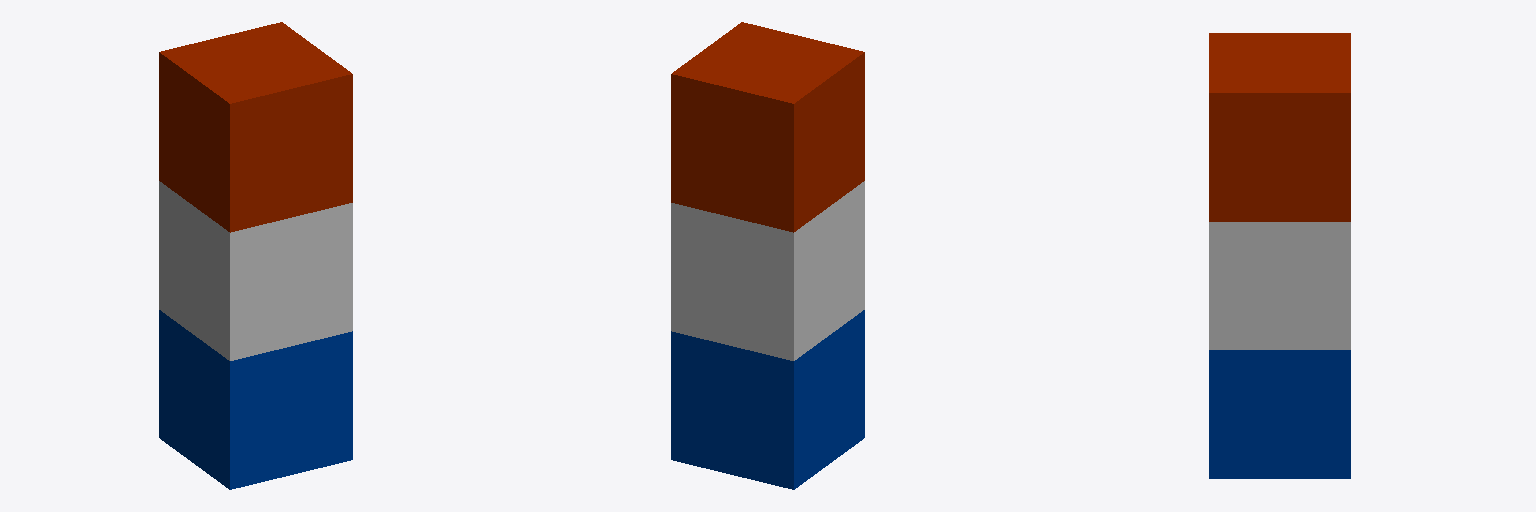
File: boxman.obj
The picture shows the model from 3 angles: view 1: azimuth 30°, elevation 25°; view 2: azimuth 150°, elevation 25°; view 3: azimuth 270°, elevation 25°; orthographic projection.
Visible parts, largest first — view 1: Cube.002, Cube, Cube.001; view 2: Cube.002, Cube, Cube.001; view 3: Cube.002, Cube, Cube.001.
Boxes of the visible parts, <box> form: Cube.002: <box>159,22,352,232</box>; Cube: <box>159,310,352,489</box>; Cube.001: <box>159,181,352,360</box>; Cube.002: <box>671,22,864,232</box>; Cube: <box>671,310,864,489</box>; Cube.001: <box>671,181,864,360</box>; Cube.002: <box>1209,33,1350,221</box>; Cube: <box>1209,350,1350,478</box>; Cube.001: <box>1209,222,1350,349</box>.
Bounding box in the file's own units: 2 × 6 × 2.